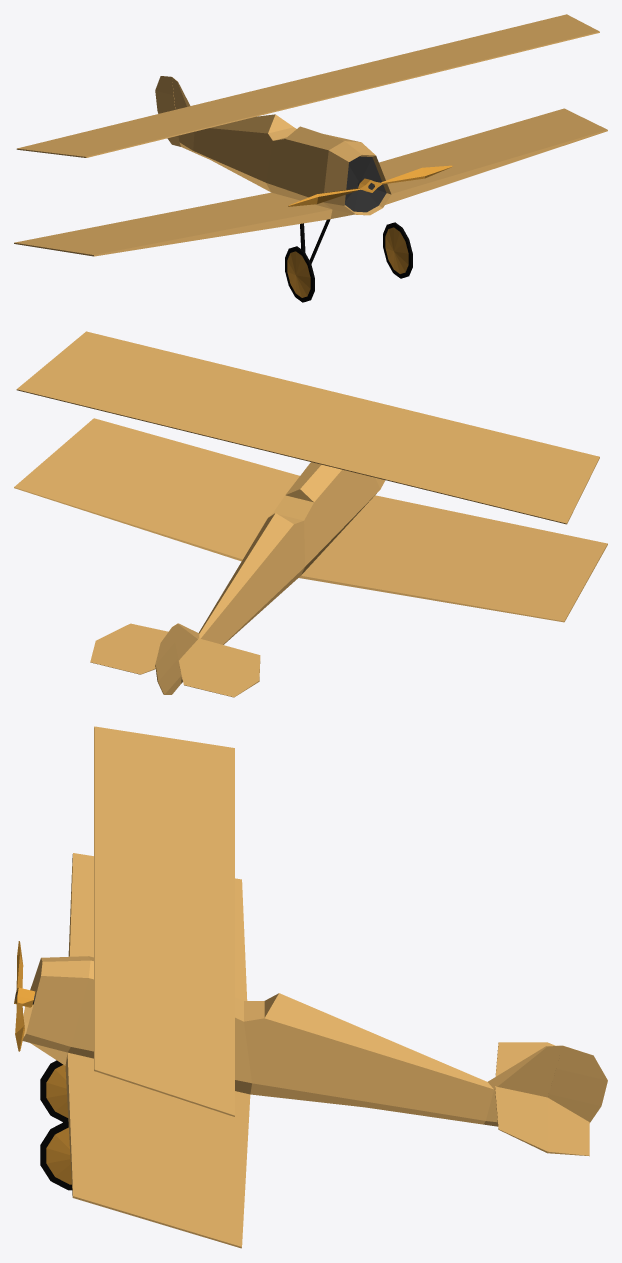
3 views of the same model, one above another, from view 1: azimuth 30°, elevation 25°; view 2: azimuth 150°, elevation 25°; view 3: azimuth 270°, elevation 25° (orthographic). The views are drawn at different scales.
Visible parts, largest first — view 1: Circle.025, Cylinder.005, Circle.028, Circle.026; view 2: Circle.025, Circle.027, Circle.029, Circle.026; view 3: Circle.025, Circle.026, Cylinder.005, Circle.029, Circle.028.
Part boxes in pixels (bbox=[...]): Circle.025: bbox=[14, 14, 607, 263]; Cylinder.005: bbox=[285, 222, 412, 302]; Circle.028: bbox=[288, 165, 452, 206]; Circle.026: bbox=[155, 76, 180, 146]; Circle.025: bbox=[14, 331, 607, 683]; Circle.027: bbox=[179, 661, 259, 697]; Circle.029: bbox=[90, 641, 157, 674]; Circle.026: bbox=[155, 627, 181, 694]; Circle.025: bbox=[22, 726, 562, 1248]; Circle.026: bbox=[548, 1045, 607, 1122]; Cylinder.005: bbox=[40, 1060, 72, 1190]; Circle.029: bbox=[547, 1098, 589, 1156]; Circle.028: bbox=[14, 941, 35, 1051].
Bounding box in the file's own units: 1187 × 390 × 811.
